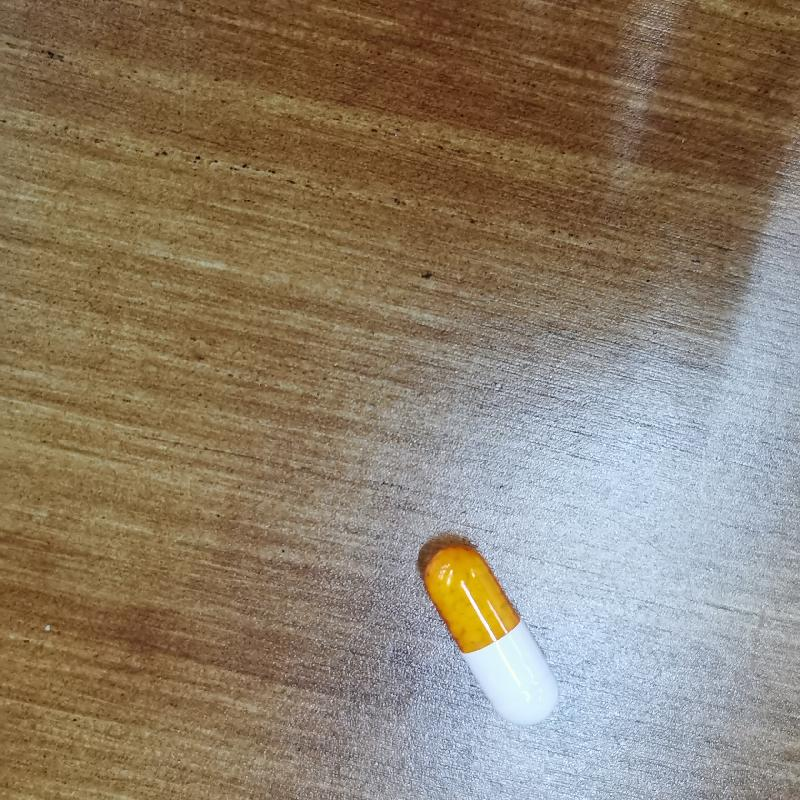pills: (404, 523, 578, 742)
